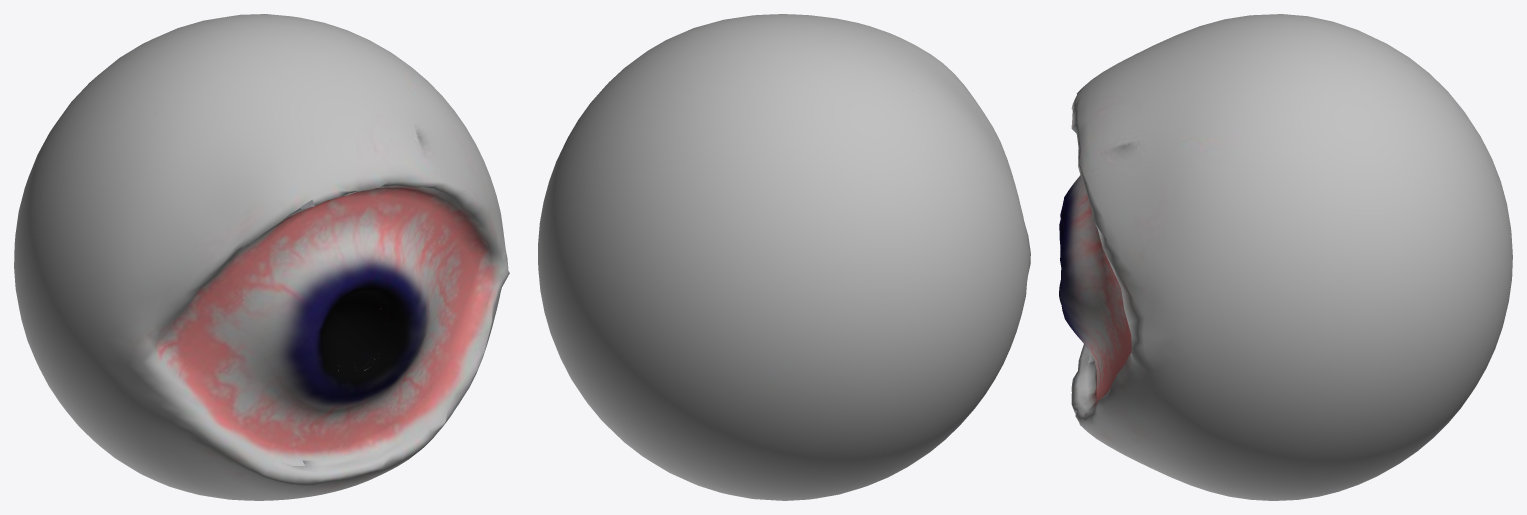
Rendered from Eye.fbx.
3 renders of one model, left to right at view 1: azimuth 30°, elevation 25°; view 2: azimuth 150°, elevation 25°; view 3: azimuth 270°, elevation 25°, orthographic.
Parts seen in each view (by area): view 1: Quad Sphere; view 2: Quad Sphere; view 3: Quad Sphere.
Part boxes in pixels (x1,y1,x2,y2): Quad Sphere: [14, 14, 509, 500]; Quad Sphere: [538, 14, 1030, 500]; Quad Sphere: [1059, 14, 1512, 500].
Bounding box in the file's own units: 101 × 100 × 93.75.
Materials: 1 (1 with a texture image).
